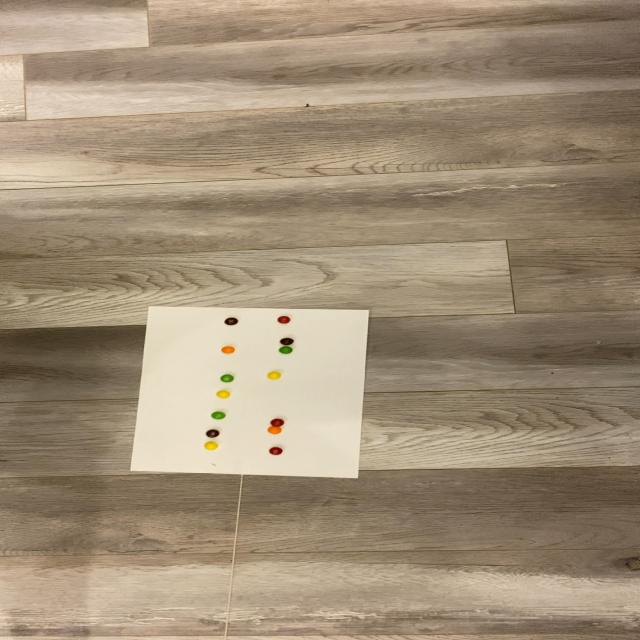smartie: (212, 411, 227, 420), (216, 391, 231, 400), (204, 442, 219, 451), (206, 429, 220, 438), (270, 418, 284, 427), (220, 374, 234, 383), (267, 371, 281, 380), (223, 318, 238, 326), (278, 347, 293, 355), (279, 337, 293, 345), (221, 346, 235, 354), (267, 426, 281, 434), (276, 317, 290, 325), (269, 447, 283, 455)
